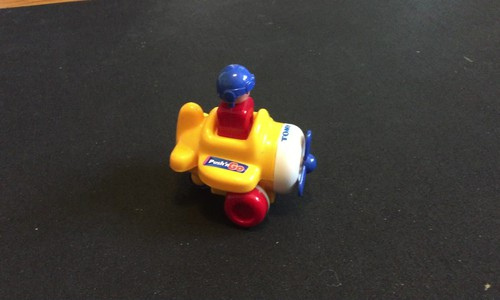toy: (160, 56, 323, 230)
